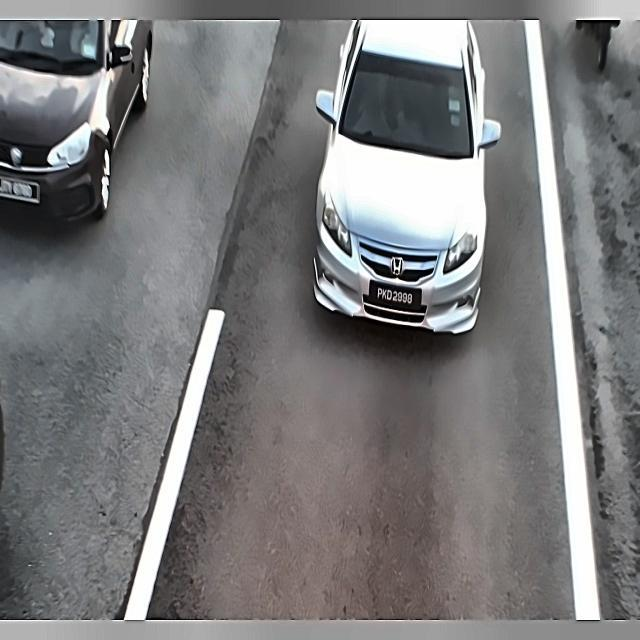car: (366, 276, 424, 315), (0, 170, 40, 207)
